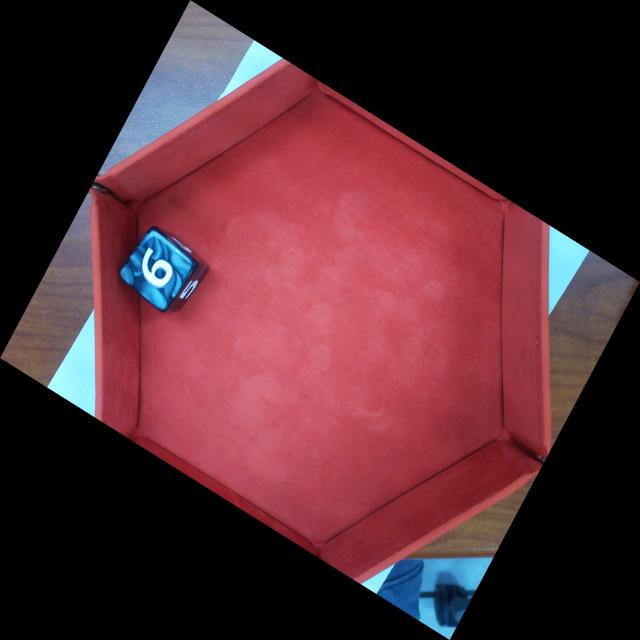dice: (114, 224, 200, 315)
